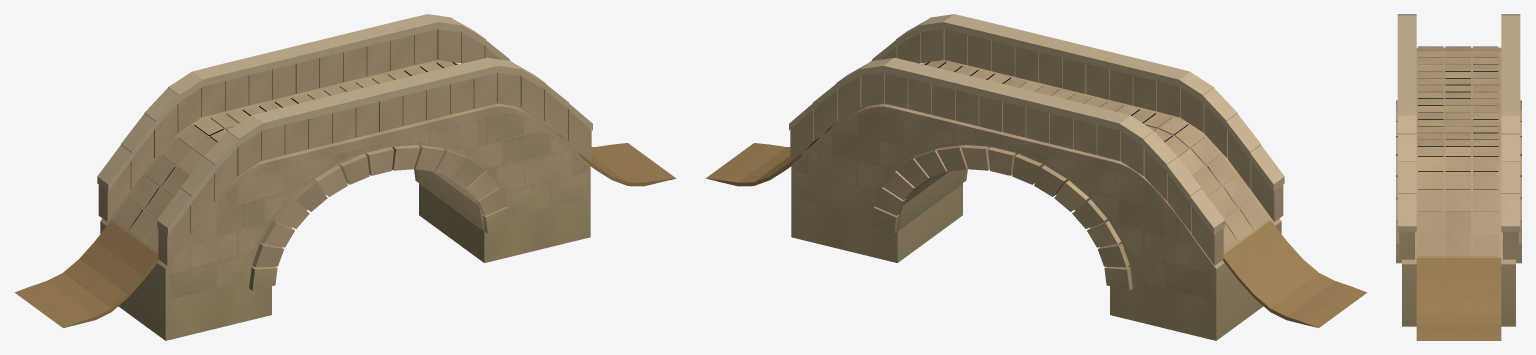
Rendered from SM_PuentePiedra_A_LOD0.fbx.
The picture shows the model from 3 angles, left to right: view 1: azimuth 30°, elevation 25°; view 2: azimuth 150°, elevation 25°; view 3: azimuth 270°, elevation 25°; orthographic projection. The views are drawn at different scales.
Visible parts, largest first — view 1: SM_PuentePiedra_A_LOD0; view 2: SM_PuentePiedra_A_LOD0; view 3: SM_PuentePiedra_A_LOD0.
Boxes of the visible parts, x1,y1,x2,y2 form: SM_PuentePiedra_A_LOD0: [14, 14, 676, 340]; SM_PuentePiedra_A_LOD0: [705, 14, 1367, 340]; SM_PuentePiedra_A_LOD0: [1396, 14, 1521, 340].
Size of the model in its own units: 1.73 by 0.531 by 0.354.
Materials: 1 (1 with a texture image).
